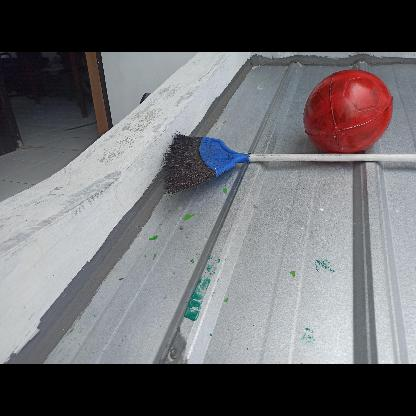red_ball: (304, 66, 392, 154)
